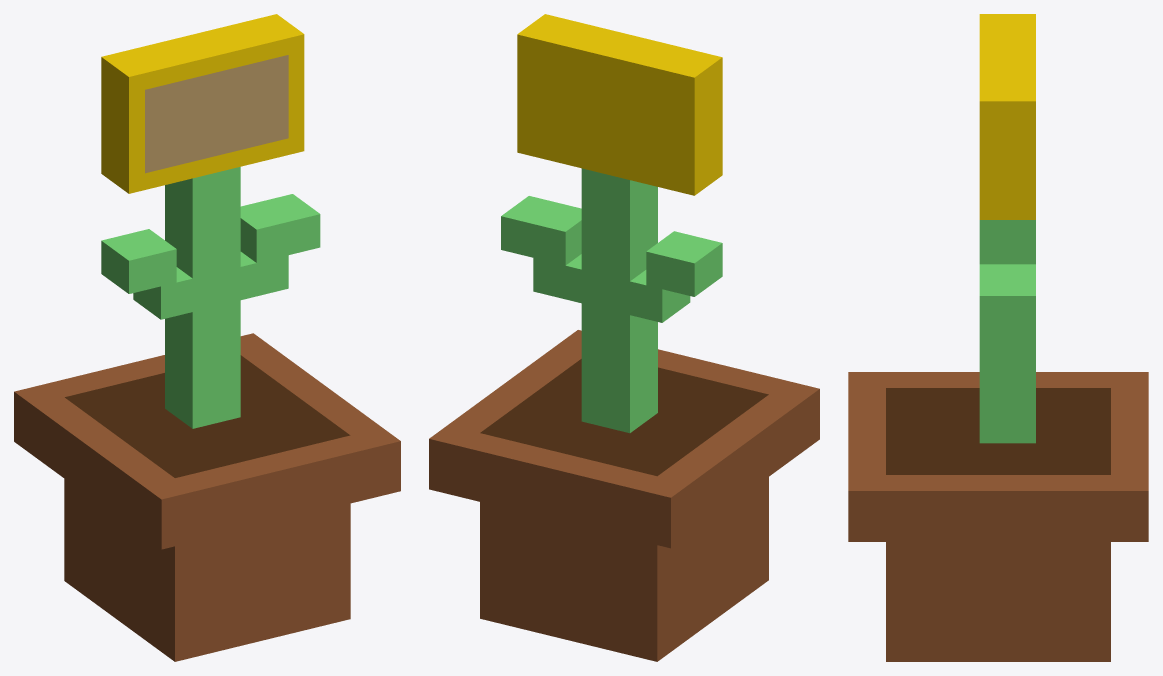
File: SchoolPack-19-sunflower.obj
3 views of the same model, side by side, from view 1: azimuth 30°, elevation 25°; view 2: azimuth 150°, elevation 25°; view 3: azimuth 270°, elevation 25° (orthographic).
Visible parts, largest first — view 1: sunflower; view 2: sunflower; view 3: sunflower.
Boxes of the visible parts, left/top/right/bottom form: sunflower: left=14, top=14, right=400, bottom=661; sunflower: left=429, top=14, right=819, bottom=661; sunflower: left=848, top=14, right=1148, bottom=661.
Bounding box in the file's own units: 1.5 × 3.3 × 1.6.
Materials: 1 (1 with a texture image).
